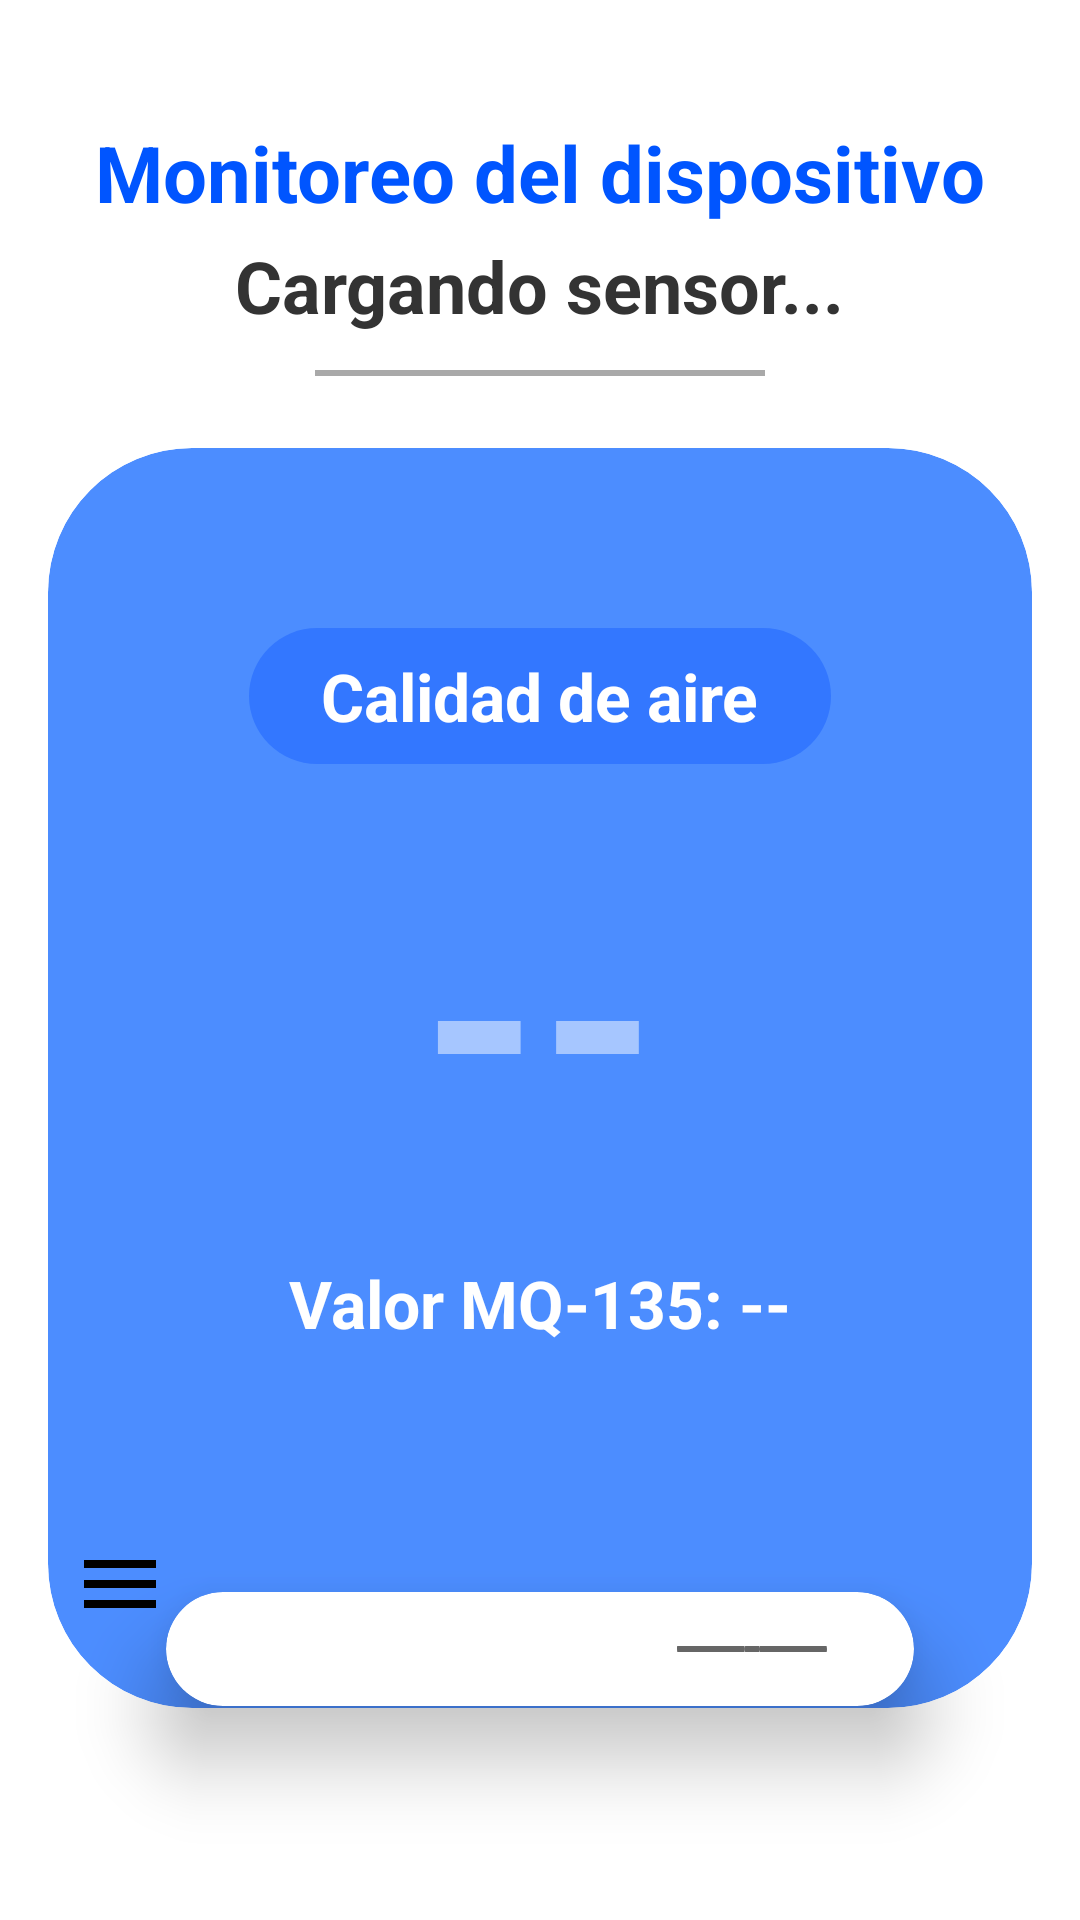

Where to tap for icons on this 1080x1920 app screen, as (x,y):
Abrir menú: (120,1584)
